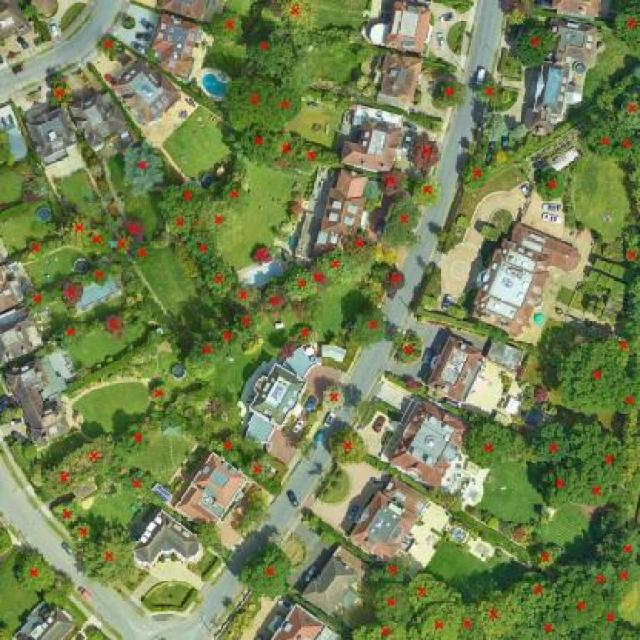tree: (556, 337, 616, 414), (76, 524, 144, 590), (235, 540, 303, 605), (503, 12, 566, 72), (219, 72, 278, 134), (457, 416, 518, 475), (240, 25, 302, 81), (118, 138, 172, 199), (570, 418, 633, 468), (8, 542, 64, 596), (557, 573, 605, 630), (379, 192, 424, 252), (473, 584, 521, 640), (408, 594, 466, 640), (410, 568, 470, 612), (511, 569, 567, 616), (150, 175, 212, 217), (539, 456, 581, 516), (230, 487, 278, 539), (209, 172, 265, 216), (289, 136, 346, 179), (523, 417, 574, 465), (233, 124, 284, 171), (346, 609, 423, 640), (194, 198, 246, 242), (334, 222, 386, 266), (577, 604, 640, 640), (569, 469, 620, 513), (350, 300, 392, 351), (205, 427, 257, 468), (362, 578, 418, 616), (325, 425, 373, 469), (180, 226, 229, 269), (205, 5, 250, 50), (199, 319, 241, 367), (271, 124, 309, 176), (68, 439, 126, 473), (55, 206, 97, 252), (198, 258, 239, 305), (270, 83, 310, 131), (266, 0, 320, 35), (186, 332, 225, 380), (42, 458, 86, 500), (427, 72, 471, 114), (584, 112, 616, 168), (606, 321, 640, 373), (117, 420, 158, 463), (313, 248, 359, 286), (609, 365, 640, 420), (607, 0, 640, 51), (188, 512, 226, 556), (533, 163, 570, 208), (407, 171, 448, 211), (76, 220, 115, 262), (408, 132, 444, 177), (609, 550, 640, 602), (317, 375, 352, 420), (366, 552, 412, 586), (456, 154, 496, 192), (578, 554, 618, 592), (50, 318, 96, 350), (96, 308, 135, 344), (518, 617, 578, 640), (40, 78, 78, 114), (54, 275, 89, 314), (284, 264, 318, 304), (614, 268, 640, 320), (374, 162, 409, 200), (259, 284, 298, 318), (240, 454, 278, 488), (611, 125, 640, 169), (456, 595, 484, 640), (612, 85, 640, 129), (472, 73, 510, 105), (380, 263, 411, 302), (612, 225, 640, 268), (306, 256, 336, 296), (81, 259, 119, 290), (67, 516, 99, 552), (20, 234, 55, 266), (116, 213, 152, 244), (49, 497, 85, 528), (390, 334, 427, 364), (611, 524, 640, 562), (287, 318, 321, 350), (0, 126, 23, 172), (245, 238, 278, 270), (22, 283, 53, 317), (621, 166, 640, 221), (230, 310, 262, 342), (162, 208, 196, 238), (127, 238, 158, 267), (248, 240, 277, 271), (96, 32, 124, 62), (106, 231, 134, 260), (146, 379, 174, 408), (531, 545, 560, 572), (276, 342, 302, 363)
